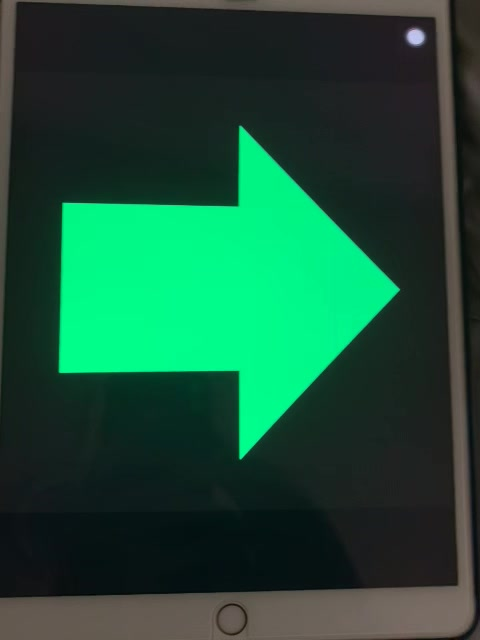right: (51, 116, 405, 466)
